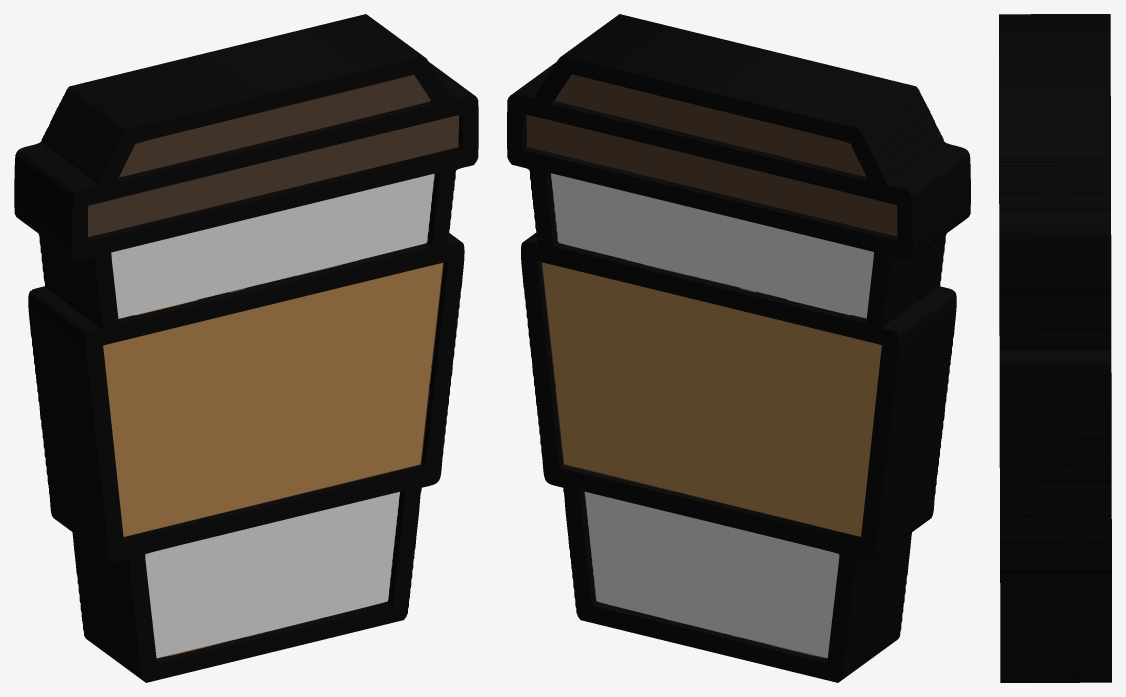
File: Coffee Model.fbx
3 renders of one model, left to right at view 1: azimuth 30°, elevation 25°; view 2: azimuth 150°, elevation 25°; view 3: azimuth 270°, elevation 25°, orthographic. The views are drawn at different scales.
Visible parts, largest first — view 1: path2, path1, path0, path3; view 2: path2, path1, path0, path3; view 3: path2.
Part boxes in pixels (<box>): path2: <box>14,14,478,682</box>; path1: <box>103,175,442,658</box>; path0: <box>111,173,434,657</box>; path3: <box>88,75,458,655</box>; path2: <box>507,14,970,682</box>; path1: <box>542,175,881,658</box>; path0: <box>551,173,873,657</box>; path3: <box>526,74,897,655</box>; path2: <box>999,14,1111,682</box>.
Size of the model in its own units: 567 by 746 by 142.
